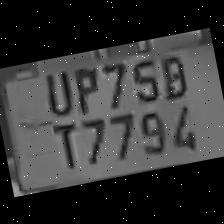4: (162, 97, 200, 153)
5: (124, 48, 163, 104)
7: (72, 110, 112, 169), (93, 52, 131, 110), (101, 107, 138, 163)
9: (132, 103, 168, 158)
B: (152, 45, 191, 101)
P: (64, 58, 105, 114)
T: (46, 115, 85, 172)
U: (37, 61, 76, 117)
